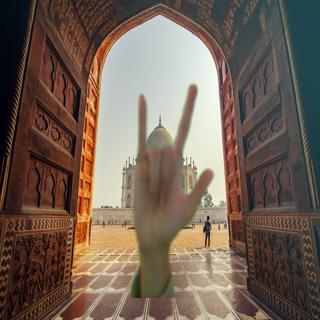ILY: (122, 80, 217, 254)
